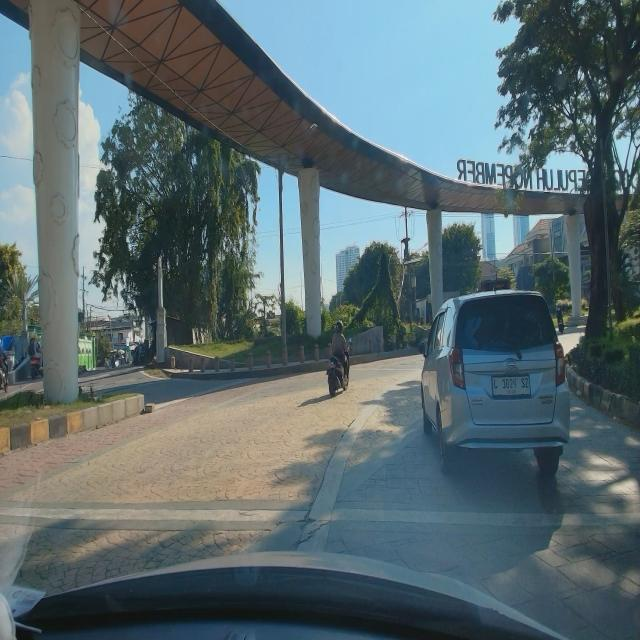car: (418, 284, 576, 480)
license-plate: (489, 374, 534, 402)
